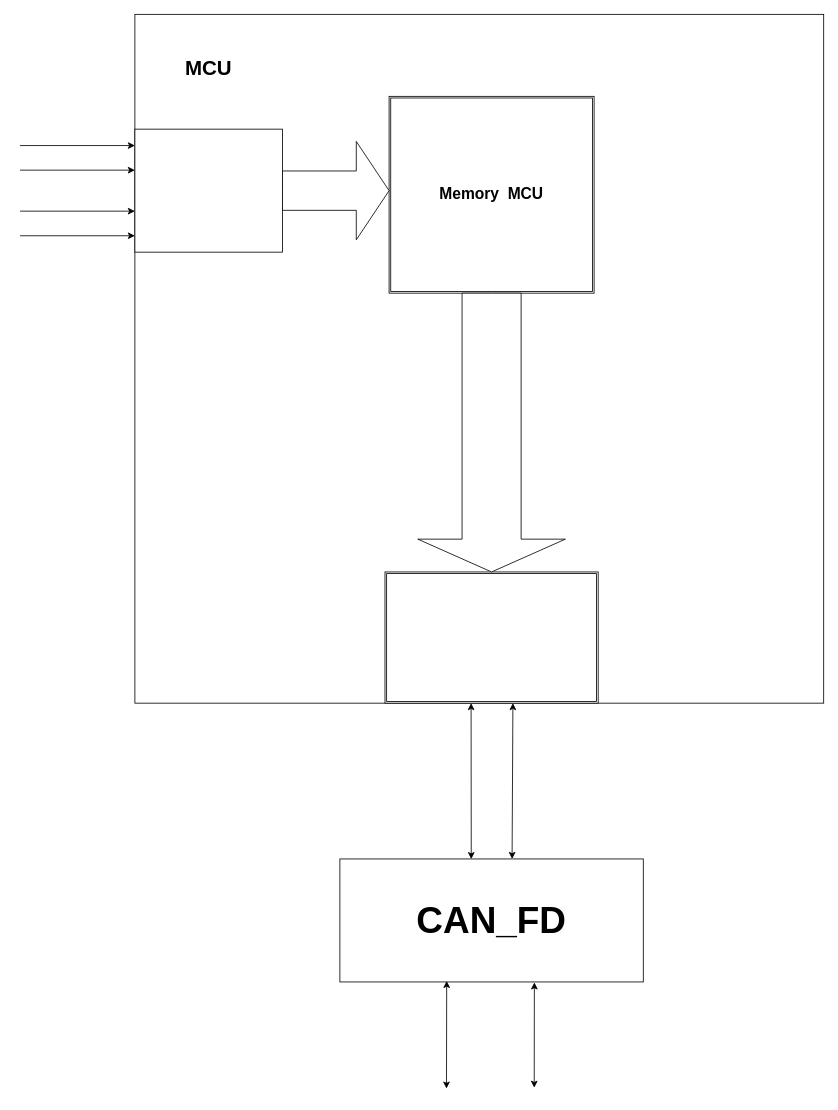
This 838x1110 diagram has some shape labels left out. Each missing label, with the centre of its shape:
"Orchestral pit" belongs at point 491,637.
"SPI UART Wi-Fi" belongs at point 208,190.
